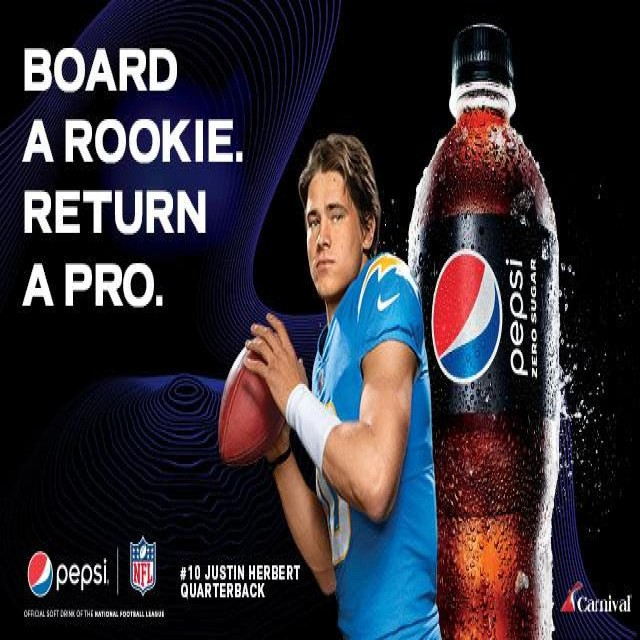pepsi: (428, 246, 504, 386), (24, 546, 57, 602)
